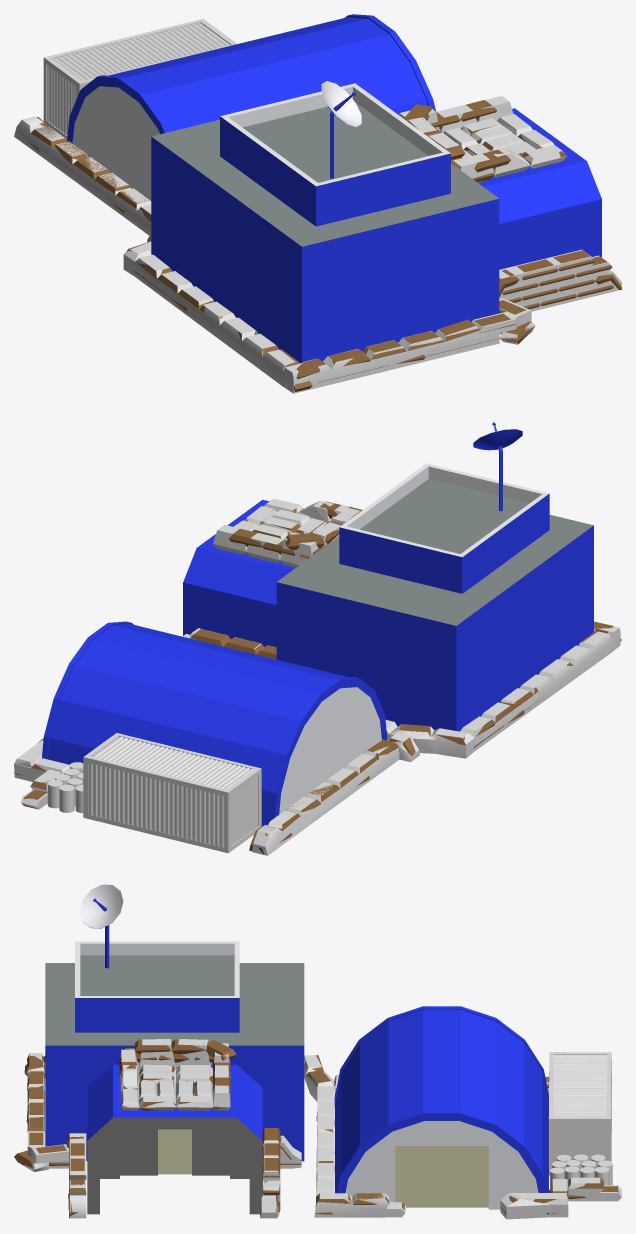
The model's file is command_center (USA).fbx.
3 renders of one model, top to bottom at view 1: azimuth 30°, elevation 25°; view 2: azimuth 150°, elevation 25°; view 3: azimuth 270°, elevation 25°, orthographic. The views are drawn at different scales.
Visible parts, largest first — view 1: Box005, Cylinder002, SandBags_LOD(1), SandBags_LOD(0), Box004, Container_HP, Box003; view 2: Box005, Cylinder002, SandBags_LOD(1), Container_HP, Box004, SandBags_LOD(0), Barrels_LOD(0), Box003; view 3: Box005, Cylinder002, SandBags_LOD(1), Box004, SandBags_LOD(0), Group001, Container_HP, Container_LP, Box003, Barrels_LOD(0), Barrels_LOD(1).
Boxes of the visible parts, box(x1,y1,x2,y2) form: Box005: box(151, 83, 499, 363); Cylinder002: box(67, 14, 436, 201); SandBags_LOD(1): box(14, 96, 621, 393); SandBags_LOD(0): box(27, 100, 621, 391); Box004: box(478, 108, 601, 269); Container_HP: box(43, 19, 236, 140); Box003: box(321, 81, 361, 178); Box005: box(276, 463, 593, 731); Cylinder002: box(42, 621, 387, 826); SandBags_LOD(1): box(14, 498, 620, 855); Container_HP: box(83, 733, 261, 853); Box004: box(183, 499, 295, 647); SandBags_LOD(0): box(14, 501, 621, 854); Barrels_LOD(0): box(47, 762, 83, 813); Box003: box(473, 422, 522, 511); Box005: box(45, 941, 304, 1161); Cylinder002: box(334, 1006, 548, 1209); SandBags_LOD(1): box(23, 1039, 621, 1219); Box004: box(87, 1064, 262, 1214); SandBags_LOD(0): box(14, 1039, 618, 1218); Group001: box(395, 1146, 488, 1207); Container_HP: box(548, 1052, 611, 1175); Container_LP: box(553, 1123, 606, 1161); Box003: box(79, 884, 123, 968); Barrels_LOD(0): box(550, 1154, 612, 1188); Barrels_LOD(1): box(550, 1154, 610, 1171).
Size of the model in its own units: 545 by 373 by 937.
